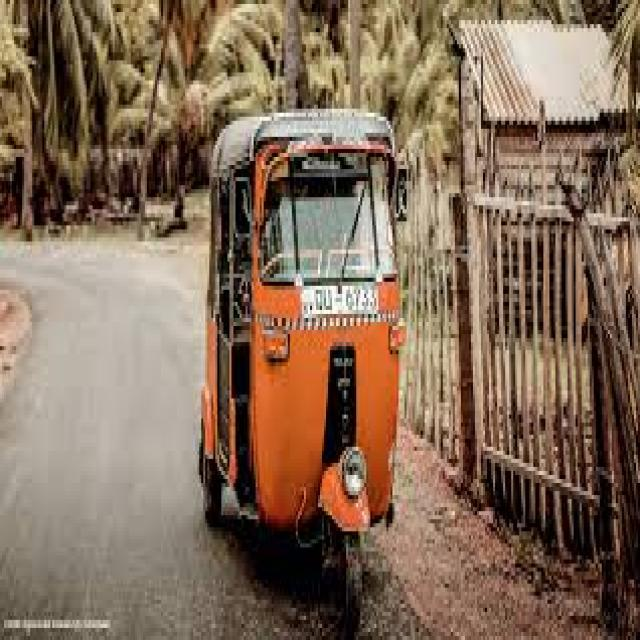tuktuk: (188, 37, 418, 640)
